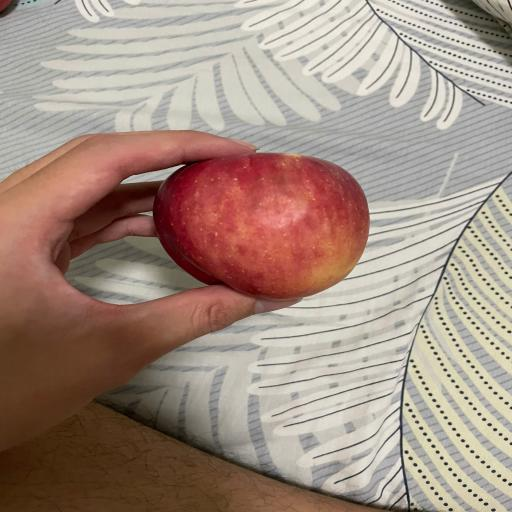apple: (153, 153, 369, 300)
